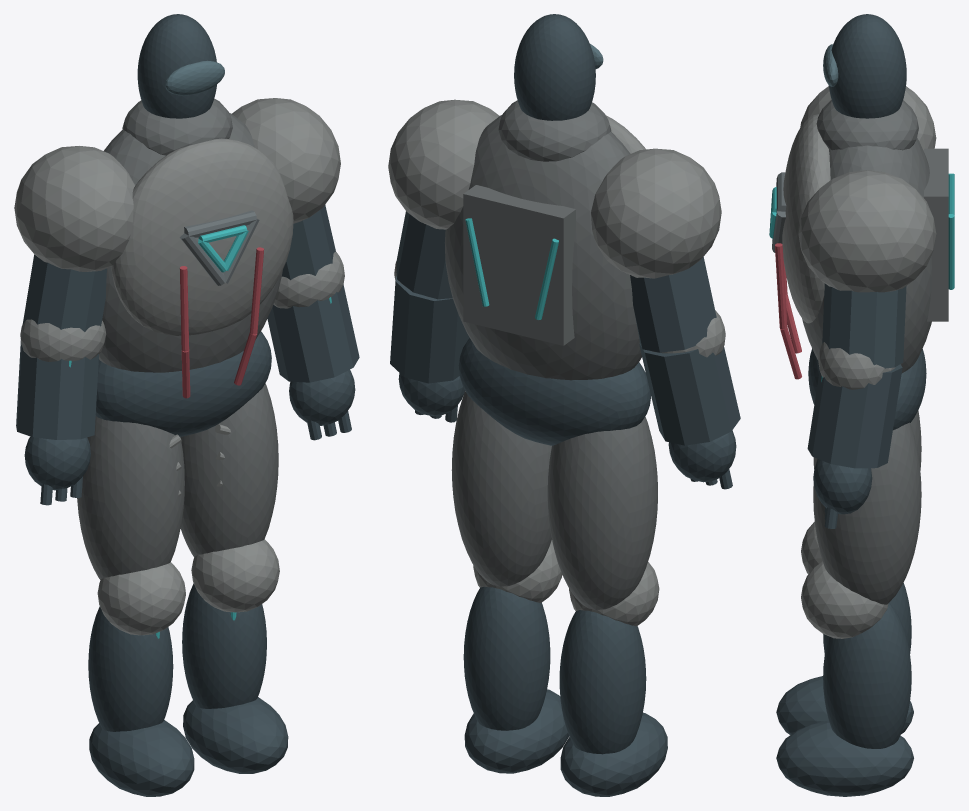
The model's file is pricer_prototype.glb.
3 views of the same model, side by side, from view 1: azimuth 30°, elevation 25°; view 2: azimuth 150°, elevation 25°; view 3: azimuth 270°, elevation 25° (orthographic). The views are drawn at different scales.
Parts seen in each view (by area): view 1: chest, thigh_-1, shoulder_-1, thigh_1, arm_-1, hip, torso, arm_1, shin_-1, shin_1, shoulder_1, foot_-1 (+14 smaller); view 2: torso, thigh_-1, back_plate, thigh_1, shoulder_-1, arm_-1, hip, shin_1, shin_-1, arm_1, shoulder_1, helmet (+10 smaller); view 3: shoulder_1, arm_1, thigh_1, shin_1, foot_1, helmet, torso, chest, knee_1, collar, back_plate, fist_1 (+12 smaller).
Boxes of the visible parts, left/top/right/bottom form: chest: left=111, top=138, right=293, bottom=335; thigh_-1: left=77, top=416, right=184, bottom=579; shoulder_-1: left=14, top=146, right=135, bottom=271; thigh_1: left=180, top=383, right=278, bottom=556; arm_-1: left=16, top=254, right=106, bottom=439; hip: left=95, top=331, right=271, bottom=436; torso: left=99, top=112, right=282, bottom=372; arm_1: left=267, top=205, right=359, bottom=382; shin_-1: left=88, top=606, right=173, bottom=731; shin_1: left=182, top=583, right=266, bottom=708; shoulder_1: left=232, top=98, right=340, bottom=223; foot_-1: left=89, top=720, right=194, bottom=796; torso: left=444, top=115, right=641, bottom=380; thigh_-1: left=547, top=416, right=657, bottom=610; back_plate: left=463, top=185, right=575, bottom=345; thigh_1: left=451, top=391, right=551, bottom=586; shoulder_-1: left=591, top=148, right=721, bottom=278; arm_-1: left=630, top=257, right=740, bottom=445; hip: left=458, top=338, right=650, bottom=445; shin_1: left=463, top=586, right=550, bottom=730; shin_-1: left=559, top=610, right=646, bottom=754; arm_1: left=390, top=211, right=469, bottom=383; shoulder_1: left=388, top=99, right=499, bottom=229; helmet: left=514, top=14, right=595, bottom=120; shoulder_1: left=798, top=170, right=936, bottom=292; arm_1: left=807, top=283, right=906, bottom=468; thigh_1: left=813, top=422, right=921, bottom=604; shin_1: left=823, top=602, right=911, bottom=748; foot_1: left=776, top=720, right=913, bottom=796; helmet: left=828, top=14, right=906, bottom=118; torso: left=802, top=137, right=931, bottom=373; chest: left=782, top=114, right=830, bottom=323; knee_1: left=801, top=561, right=888, bottom=638; collar: left=816, top=100, right=918, bottom=150; back_plate: left=924, top=148, right=948, bottom=321; fist_1: left=813, top=459, right=872, bottom=514.
Size of the model in its own units: 0.782 by 1.68 by 0.376.
